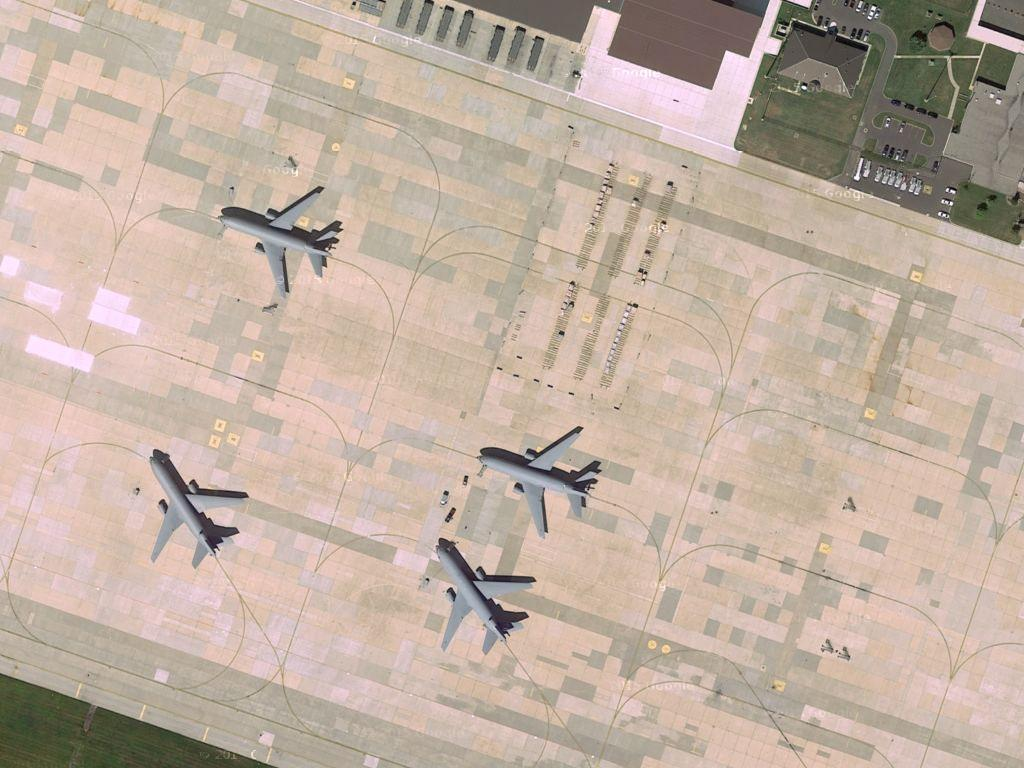KC-10: (207, 185, 344, 293), (470, 422, 598, 537), (426, 537, 542, 656), (143, 450, 247, 573)
